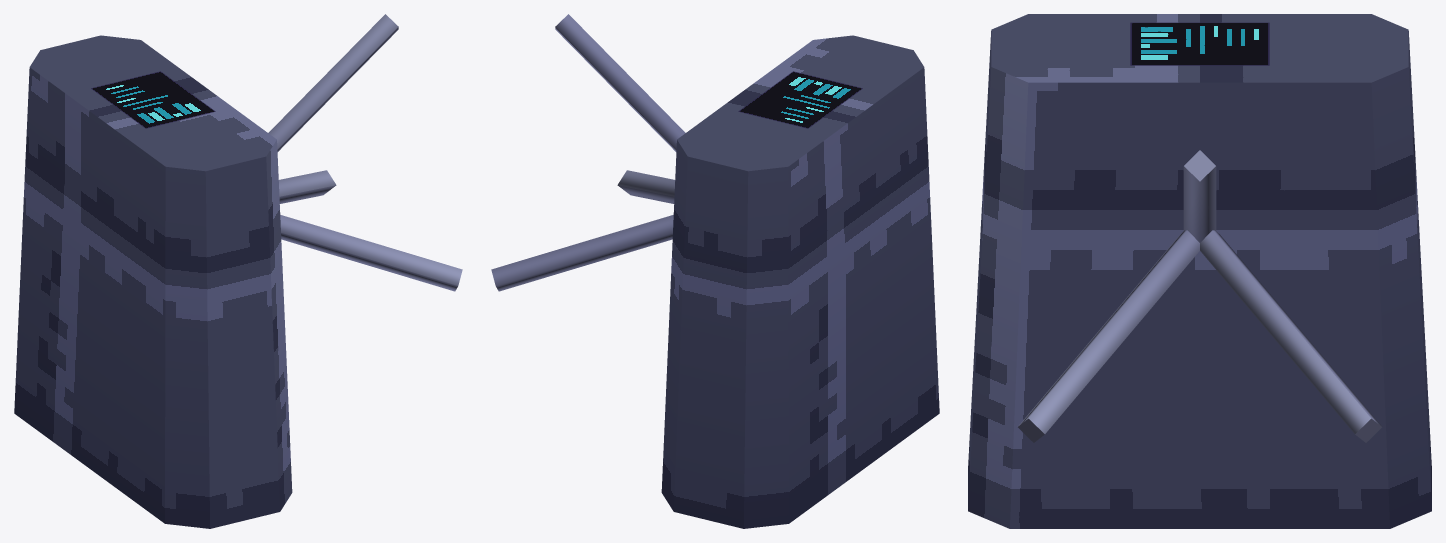
Rendered from cyroom.turnstile.glb.
3 views of the same model, side by side, from view 1: azimuth 30°, elevation 25°; view 2: azimuth 150°, elevation 25°; view 3: azimuth 270°, elevation 25° (orthographic). The views are drawn at different scales.
Visible parts, largest first — view 1: kit_body, kit_card_details; view 2: kit_body, kit_card_details; view 3: kit_body, kit_card_details.
Boxes of the visible parts, x1,y1,x2,y2 form: kit_body: [14, 14, 462, 528]; kit_card_details: [91, 71, 215, 128]; kit_body: [491, 14, 939, 528]; kit_card_details: [738, 71, 862, 128]; kit_body: [968, 14, 1431, 528]; kit_card_details: [1130, 22, 1269, 65].
Size of the model in its own units: 0.9708 by 1.15 by 1.
3 materials, 2 textured.
